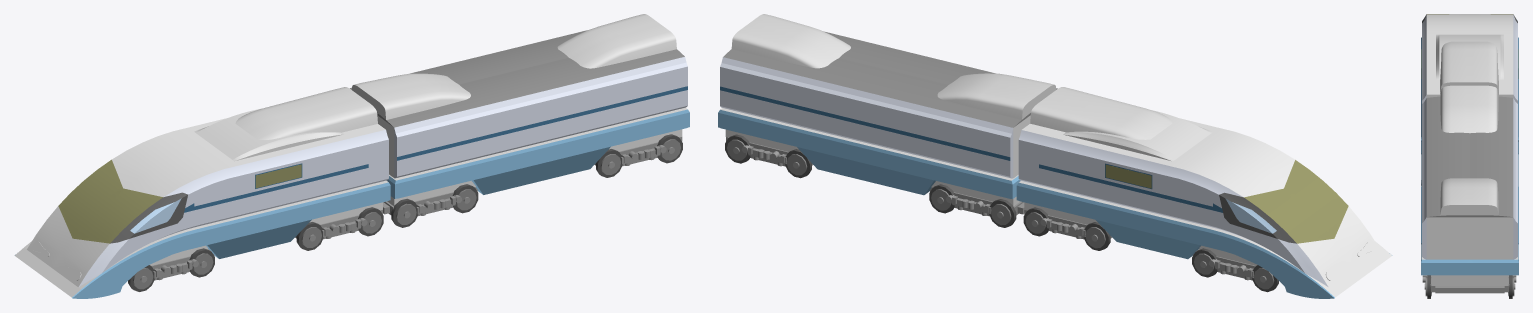
The picture shows the model from 3 angles, left to right: view 1: azimuth 30°, elevation 25°; view 2: azimuth 150°, elevation 25°; view 3: azimuth 270°, elevation 25°; orthographic projection. The views are drawn at different scales.
Parts seen in each view (by area): view 1: Group_009, Group_023, Group_012, Group_024, Group#13_001, Group#2_001, Group_001, Group#2_005, Group_005, Group_007, Group#13_003, Group_020 (+14 smaller); view 2: Group_015, Group_028, Group_018, Group_029, Group#13_003, Group#2_005, Group_001, Group#2_001, Group_005, Group_007, Group#13_001, Group_025 (+14 smaller); view 3: Group#13_003, Group#13_001, Group_007, Group_001, Group_005, Group#2_005, Group#2_001, Group#8_001, Group_018, Group_012, Group_004, Group_015 (+7 smaller).
Boxes of the visible parts, left/top/right/bottom form: Group_009: left=394, top=57, right=687, bottom=178; Group_023: left=79, top=129, right=388, bottom=286; Group_012: left=386, top=109, right=689, bottom=198; Group_024: left=72, top=182, right=390, bottom=298; Group#13_001: left=377, top=49, right=684, bottom=177; Group#2_001: left=52, top=124, right=385, bottom=286; Group_001: left=235, top=87, right=377, bottom=139; Group#2_005: left=27, top=118, right=227, bottom=268; Group_005: left=557, top=14, right=676, bottom=68; Group_007: left=352, top=73, right=470, bottom=119; Group#13_003: left=350, top=30, right=586, bottom=89; Group_020: left=73, top=188, right=162, bottom=243; Group_015: left=720, top=57, right=1013, bottom=178; Group_028: left=1018, top=130, right=1328, bottom=286; Group_018: left=718, top=110, right=1020, bottom=199; Group_029: left=1016, top=182, right=1334, bottom=298; Group#13_003: left=723, top=49, right=1030, bottom=177; Group#2_005: left=1022, top=123, right=1354, bottom=286; Group_001: left=1030, top=87, right=1172, bottom=139; Group#2_001: left=1179, top=118, right=1379, bottom=268; Group_005: left=731, top=14, right=850, bottom=68; Group_007: left=937, top=73, right=1056, bottom=119; Group#13_001: left=824, top=31, right=1057, bottom=89; Group_025: left=1244, top=188, right=1333, bottom=243; Group#13_003: left=1470, top=96, right=1513, bottom=259; Group#13_001: left=1426, top=96, right=1469, bottom=259; Group_007: left=1440, top=85, right=1498, bottom=133; Group_001: left=1440, top=41, right=1498, bottom=94; Group_005: left=1440, top=178, right=1498, bottom=215; Group#2_005: left=1470, top=14, right=1513, bottom=97; Group#2_001: left=1426, top=14, right=1469, bottom=97; Group#8_001: left=1422, top=275, right=1516, bottom=298; Group_018: left=1470, top=140, right=1518, bottom=275; Group_012: left=1421, top=140, right=1469, bottom=275; Group_004: left=1431, top=275, right=1508, bottom=285; Group_015: left=1513, top=98, right=1517, bottom=259.
Bounding box in the file's own units: 8243 × 1493 × 1343.
